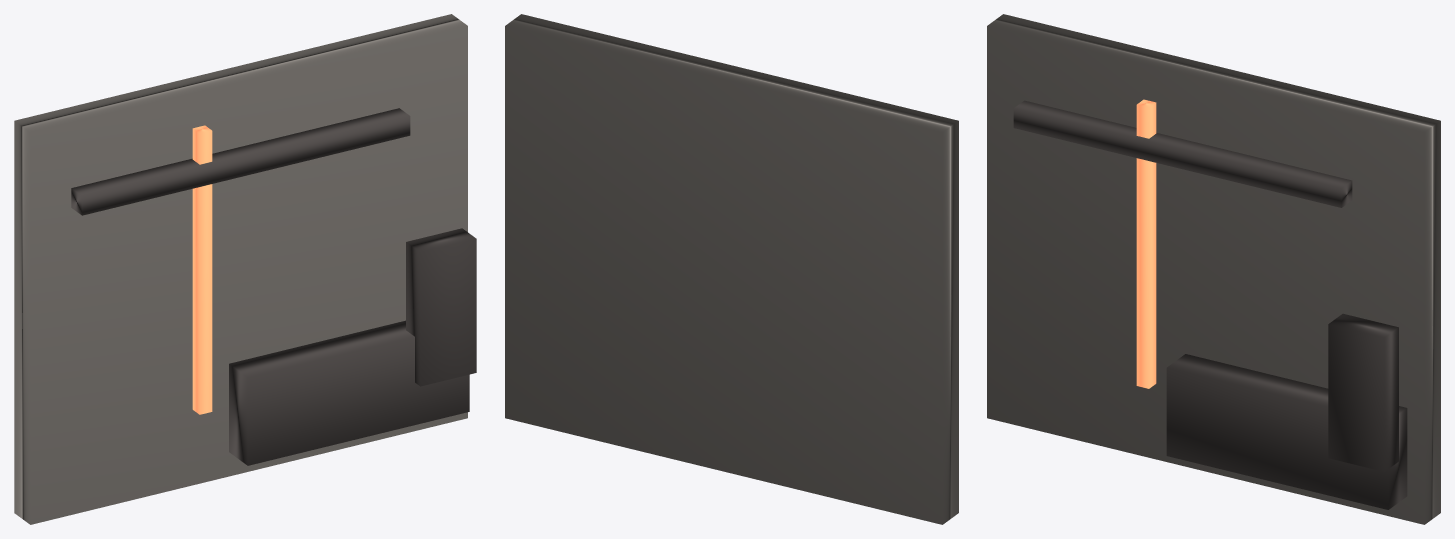
The model's file is damaged-vessel-torn-wall-plate-lod1.glb.
3 views of the same model, side by side, from view 1: azimuth 30°, elevation 25°; view 2: azimuth 150°, elevation 25°; view 3: azimuth 330°, elevation 25° (orthographic).
Visible parts, largest first — view 1: damaged-vessel-torn-wall-plate-shell, damaged-vessel-torn-wall-plate-lower-flap, damaged-vessel-torn-wall-plate-reinforcement, damaged-vessel-torn-wall-plate-tooth, damaged-vessel-torn-wall-plate-cut-edge; view 2: damaged-vessel-torn-wall-plate-shell; view 3: damaged-vessel-torn-wall-plate-shell, damaged-vessel-torn-wall-plate-lower-flap, damaged-vessel-torn-wall-plate-tooth, damaged-vessel-torn-wall-plate-reinforcement, damaged-vessel-torn-wall-plate-cut-edge.
Part boxes in pixels (bbox=[...]): damaged-vessel-torn-wall-plate-shell: bbox=[14, 14, 467, 524]; damaged-vessel-torn-wall-plate-lower-flap: bbox=[229, 320, 469, 465]; damaged-vessel-torn-wall-plate-reinforcement: bbox=[71, 108, 410, 215]; damaged-vessel-torn-wall-plate-tooth: bbox=[406, 228, 476, 386]; damaged-vessel-torn-wall-plate-cut-edge: bbox=[192, 125, 212, 414]; damaged-vessel-torn-wall-plate-shell: bbox=[505, 14, 958, 524]; damaged-vessel-torn-wall-plate-shell: bbox=[987, 14, 1440, 524]; damaged-vessel-torn-wall-plate-lower-flap: bbox=[1166, 354, 1407, 509]; damaged-vessel-torn-wall-plate-tooth: bbox=[1328, 313, 1398, 471]; damaged-vessel-torn-wall-plate-reinforcement: bbox=[1013, 100, 1352, 207]; damaged-vessel-torn-wall-plate-cut-edge: bbox=[1136, 99, 1156, 388].
Bounding box in the file's own units: 2.8 × 2.4 × 0.45.
